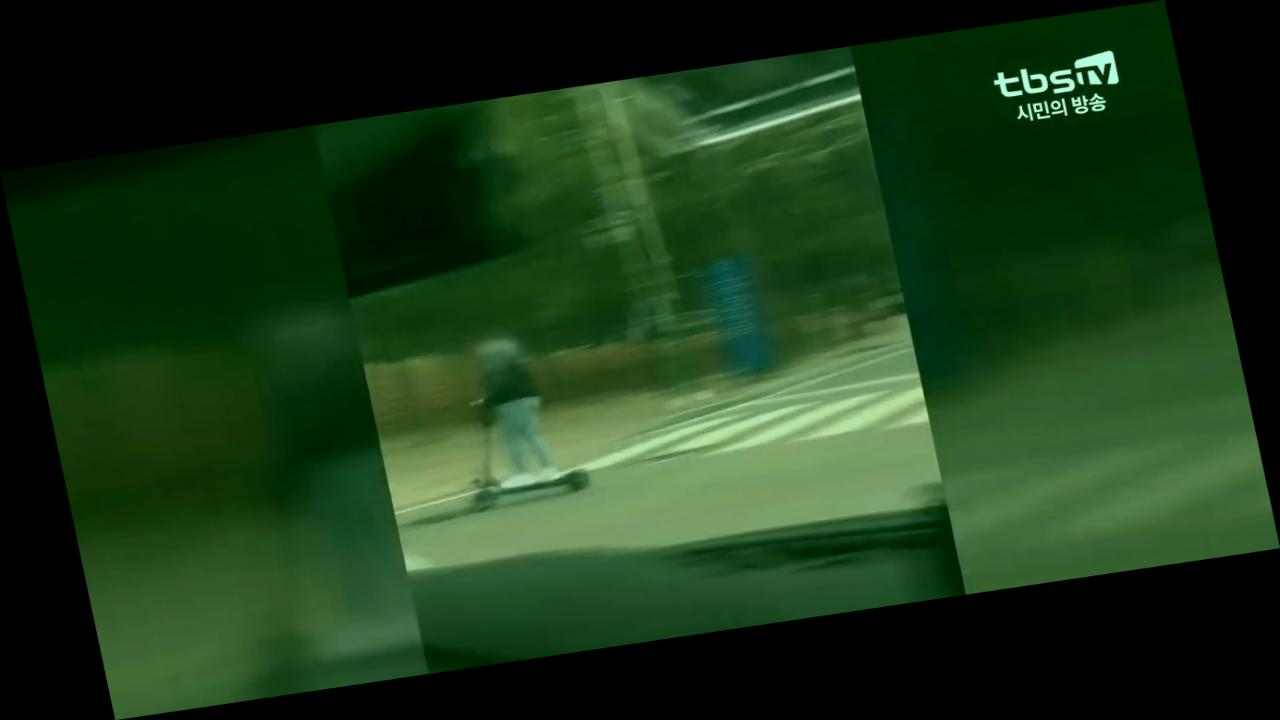nonhelmet: (428, 319, 602, 515)
